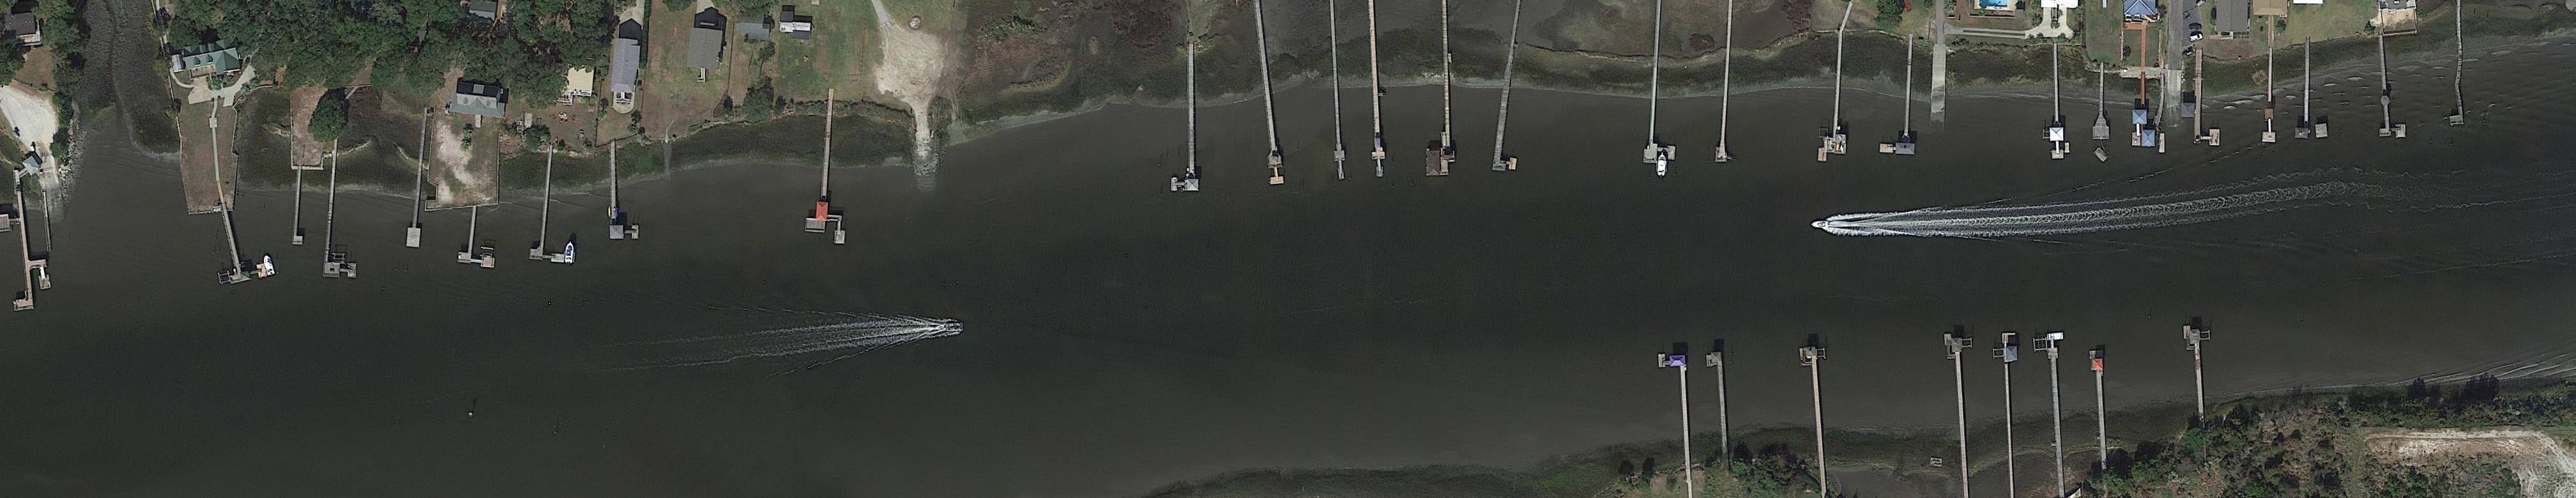harbor: (1492, 12, 1536, 174), (1250, 5, 1286, 186), (2, 189, 54, 311), (1643, 13, 1686, 163), (1943, 334, 1981, 498), (803, 120, 853, 243), (322, 156, 368, 278), (1426, 7, 1457, 178), (529, 151, 577, 263), (2045, 334, 2077, 486), (214, 201, 269, 284), (1819, 33, 1853, 163), (1879, 41, 1919, 154), (1658, 353, 1692, 478), (1171, 49, 1199, 192), (1364, 8, 1387, 178), (1801, 348, 1829, 482), (1326, 13, 1347, 181), (1715, 12, 1738, 164), (2372, 38, 2407, 140), (2438, 25, 2472, 125), (2001, 334, 2022, 495), (611, 145, 641, 240), (457, 205, 499, 268), (2183, 324, 2208, 429), (1705, 352, 1728, 459), (2090, 350, 2111, 463), (406, 156, 430, 248), (2195, 54, 2220, 146), (2131, 79, 2157, 146), (2049, 54, 2065, 159), (2262, 51, 2279, 143), (292, 168, 310, 245), (2295, 54, 2311, 138), (2093, 72, 2111, 140)
